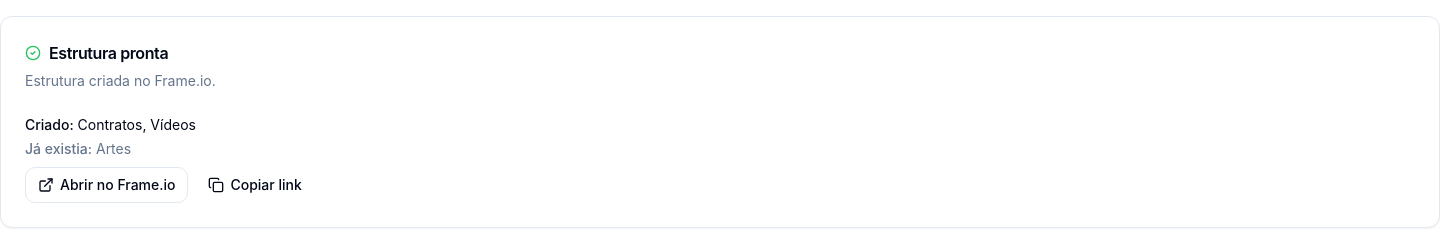
Test: RunResult — link para o Frame.io › copiar manda o link para a área de transferência
What coordinates should you click on to do the following:
click the button "Copiar link"
I would click on:
 (255, 185)
Its box is [196,167,314,203].
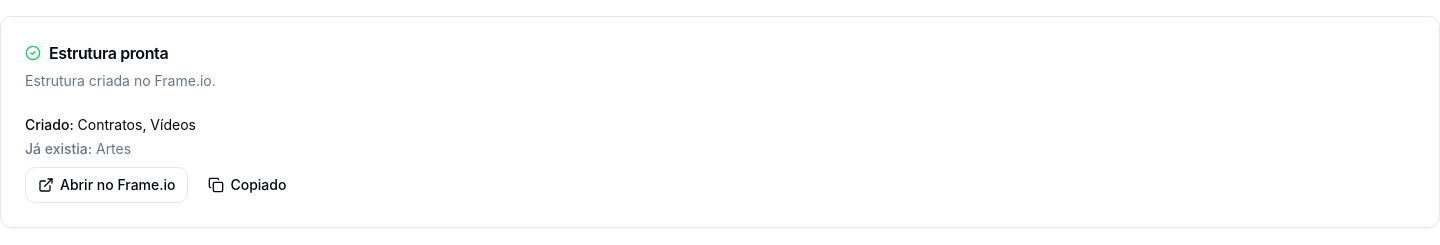
Expected: the button "Copiado" is shown, [196,167,298,203]
